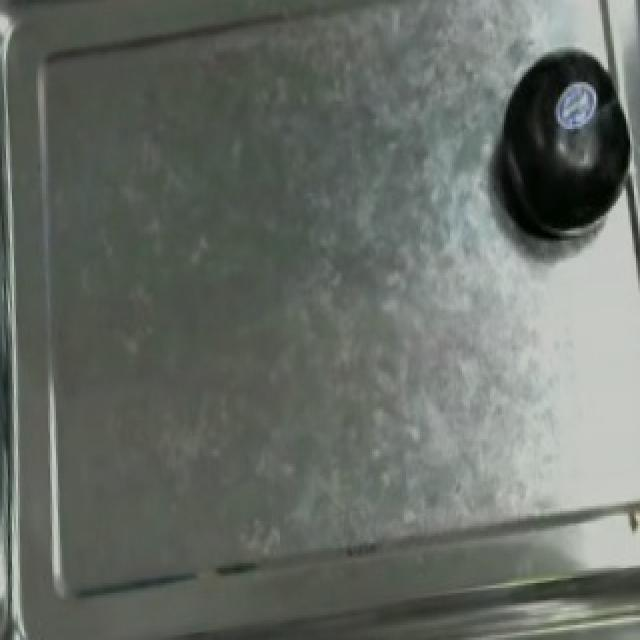Fruit: (478, 54, 638, 266)
